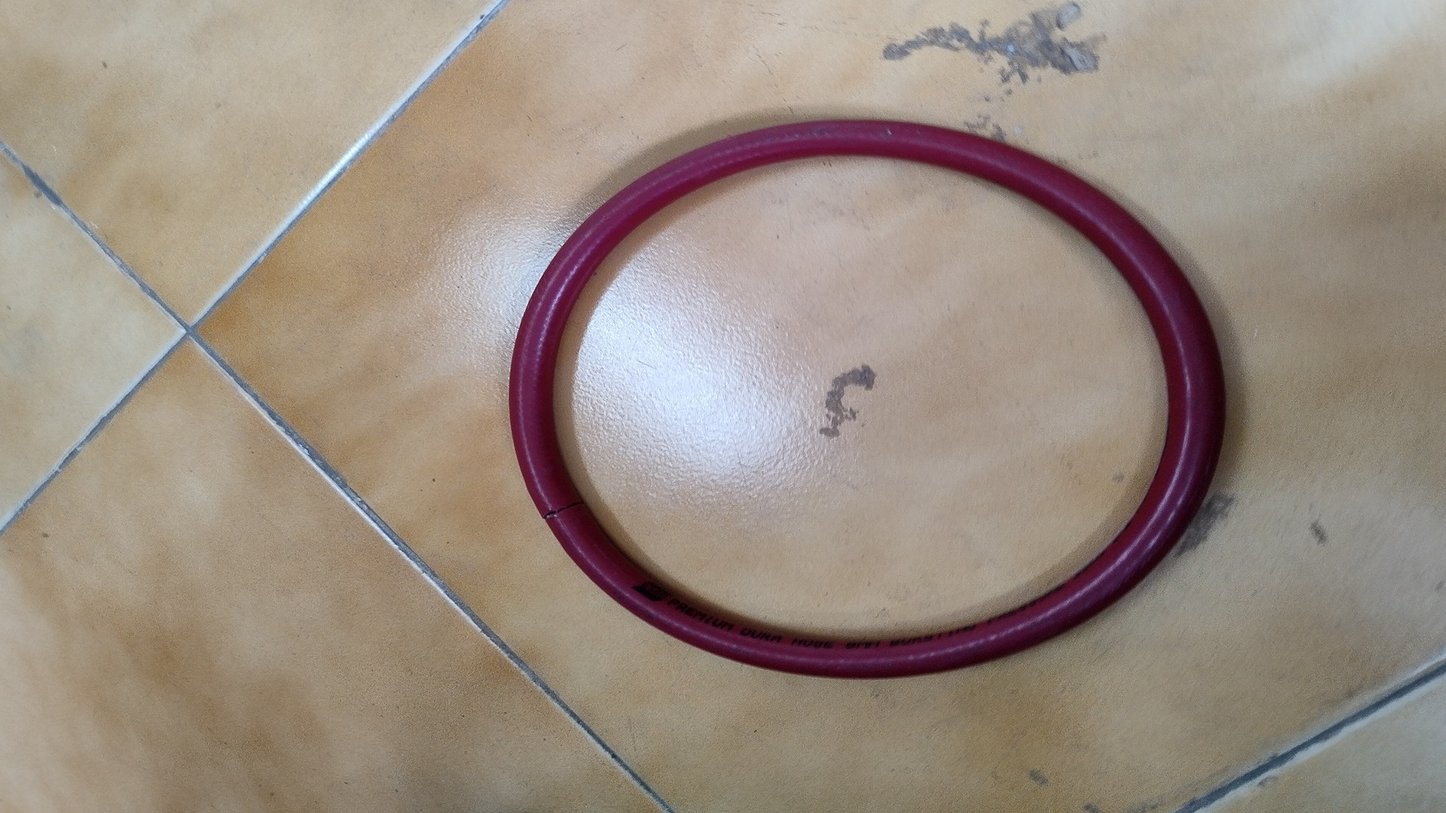Red ring: (510, 120, 1225, 684)
